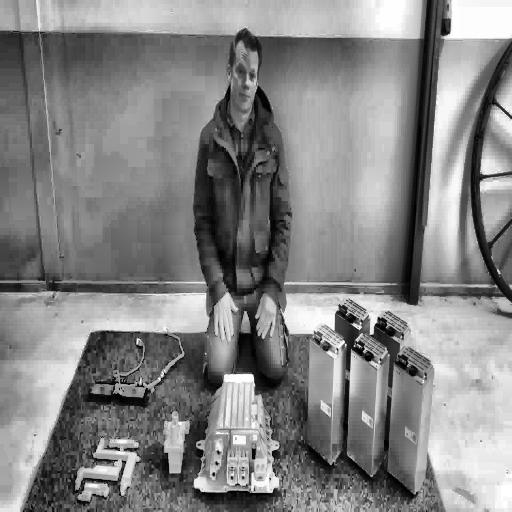battery_module: (387, 344, 435, 497), (346, 331, 390, 478), (308, 322, 346, 468), (375, 307, 411, 346), (337, 295, 372, 329)
bms_unit: (194, 373, 280, 494)
busbar: (75, 438, 142, 508)
connector: (162, 410, 190, 475)
low_volt_cable: (112, 322, 186, 394)
